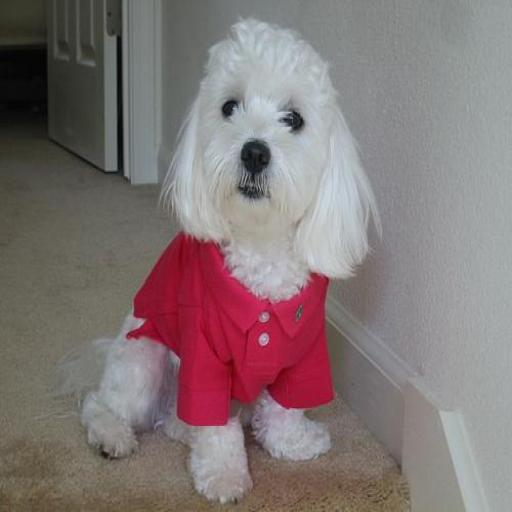dog_face: (178, 33, 363, 259)
